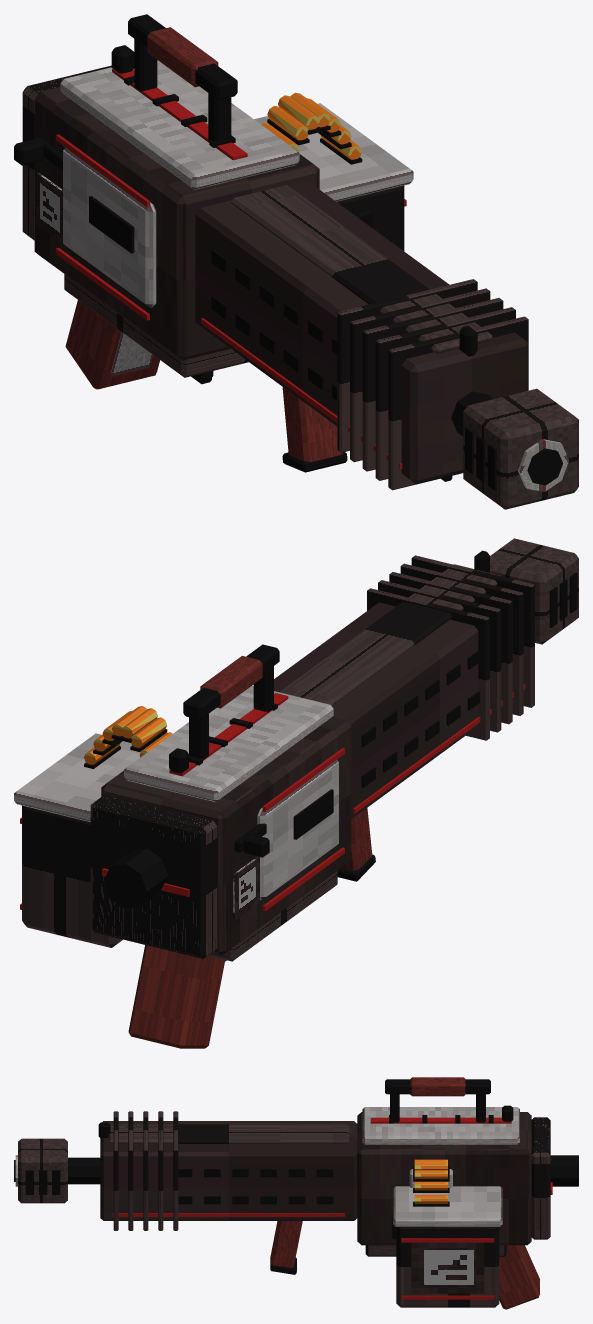
File: HeavyMG.glb
3 renders of one model, top to bottom at view 1: azimuth 30°, elevation 25°; view 2: azimuth 150°, elevation 25°; view 3: azimuth 270°, elevation 25°, orthographic. The views are drawn at different scales.
Parts seen in each view (by area): view 1: Gun; view 2: Gun; view 3: Gun.
Part boxes in pixels (box(x1,y1,x2,y2)): Gun: box(14, 14, 578, 509); Gun: box(14, 538, 578, 1048); Gun: box(14, 1077, 578, 1309).
Bounding box in the file's own units: 1.21 × 1.47 × 3.41.
Materials: 1 (1 with a texture image).
